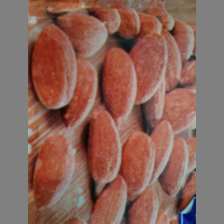nuts: (29, 1, 196, 224)
